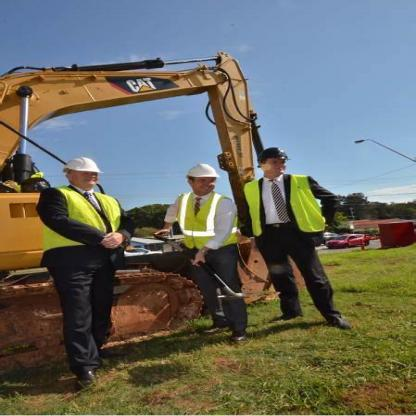person: (232, 138, 358, 342), (148, 128, 258, 348), (34, 148, 124, 394)
